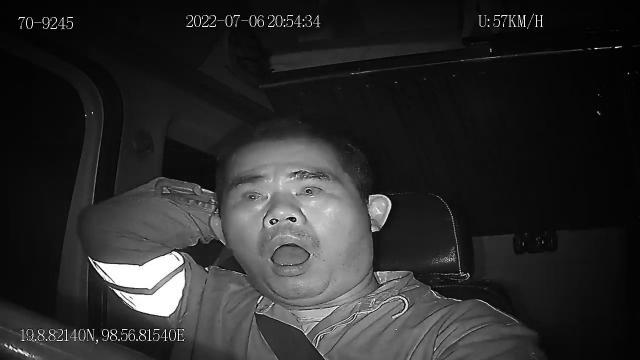SafeDriving: (290, 175, 330, 202), (236, 182, 274, 207)
Seatbelt: (253, 310, 329, 360)
